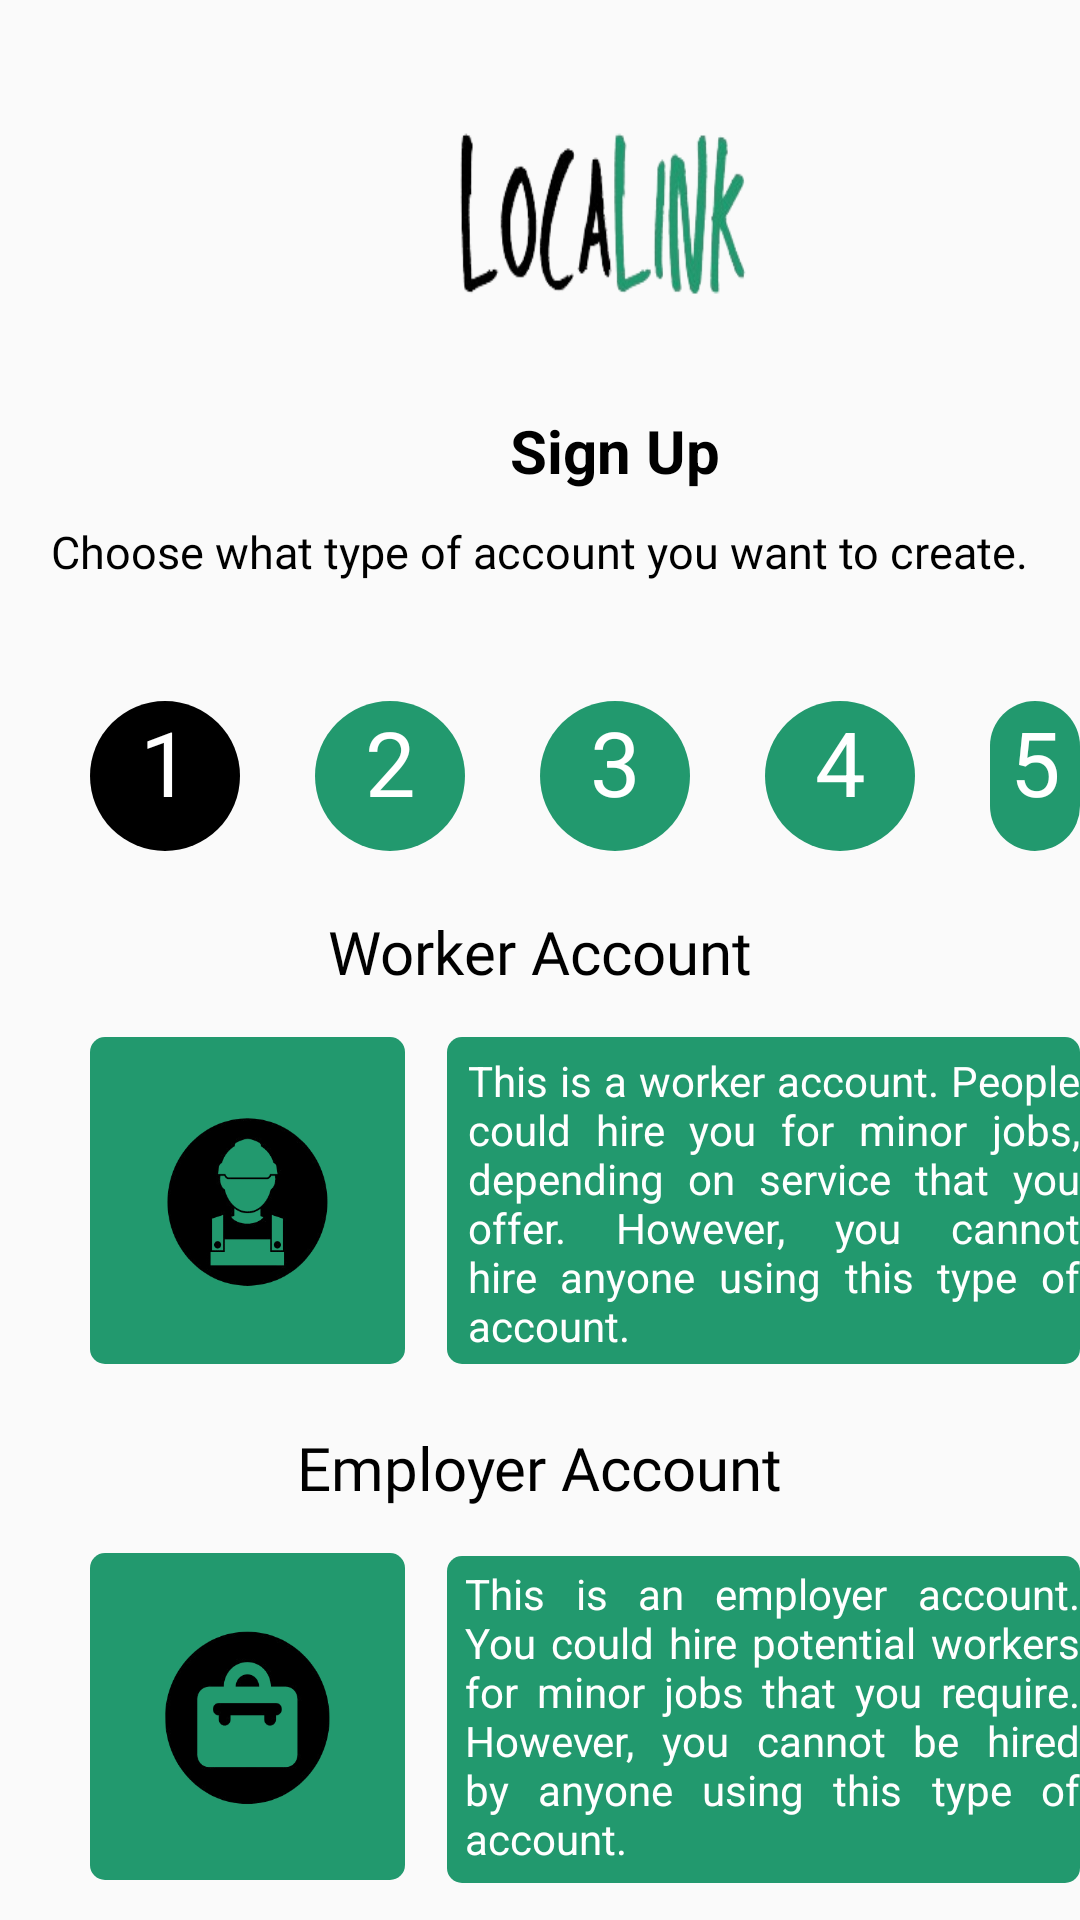

Icons on this 1080*1920 Android screen, each with the point to tap as (x=x, y=y):
employer signup: (x=247, y=1716)
worker signup: (x=247, y=1200)
